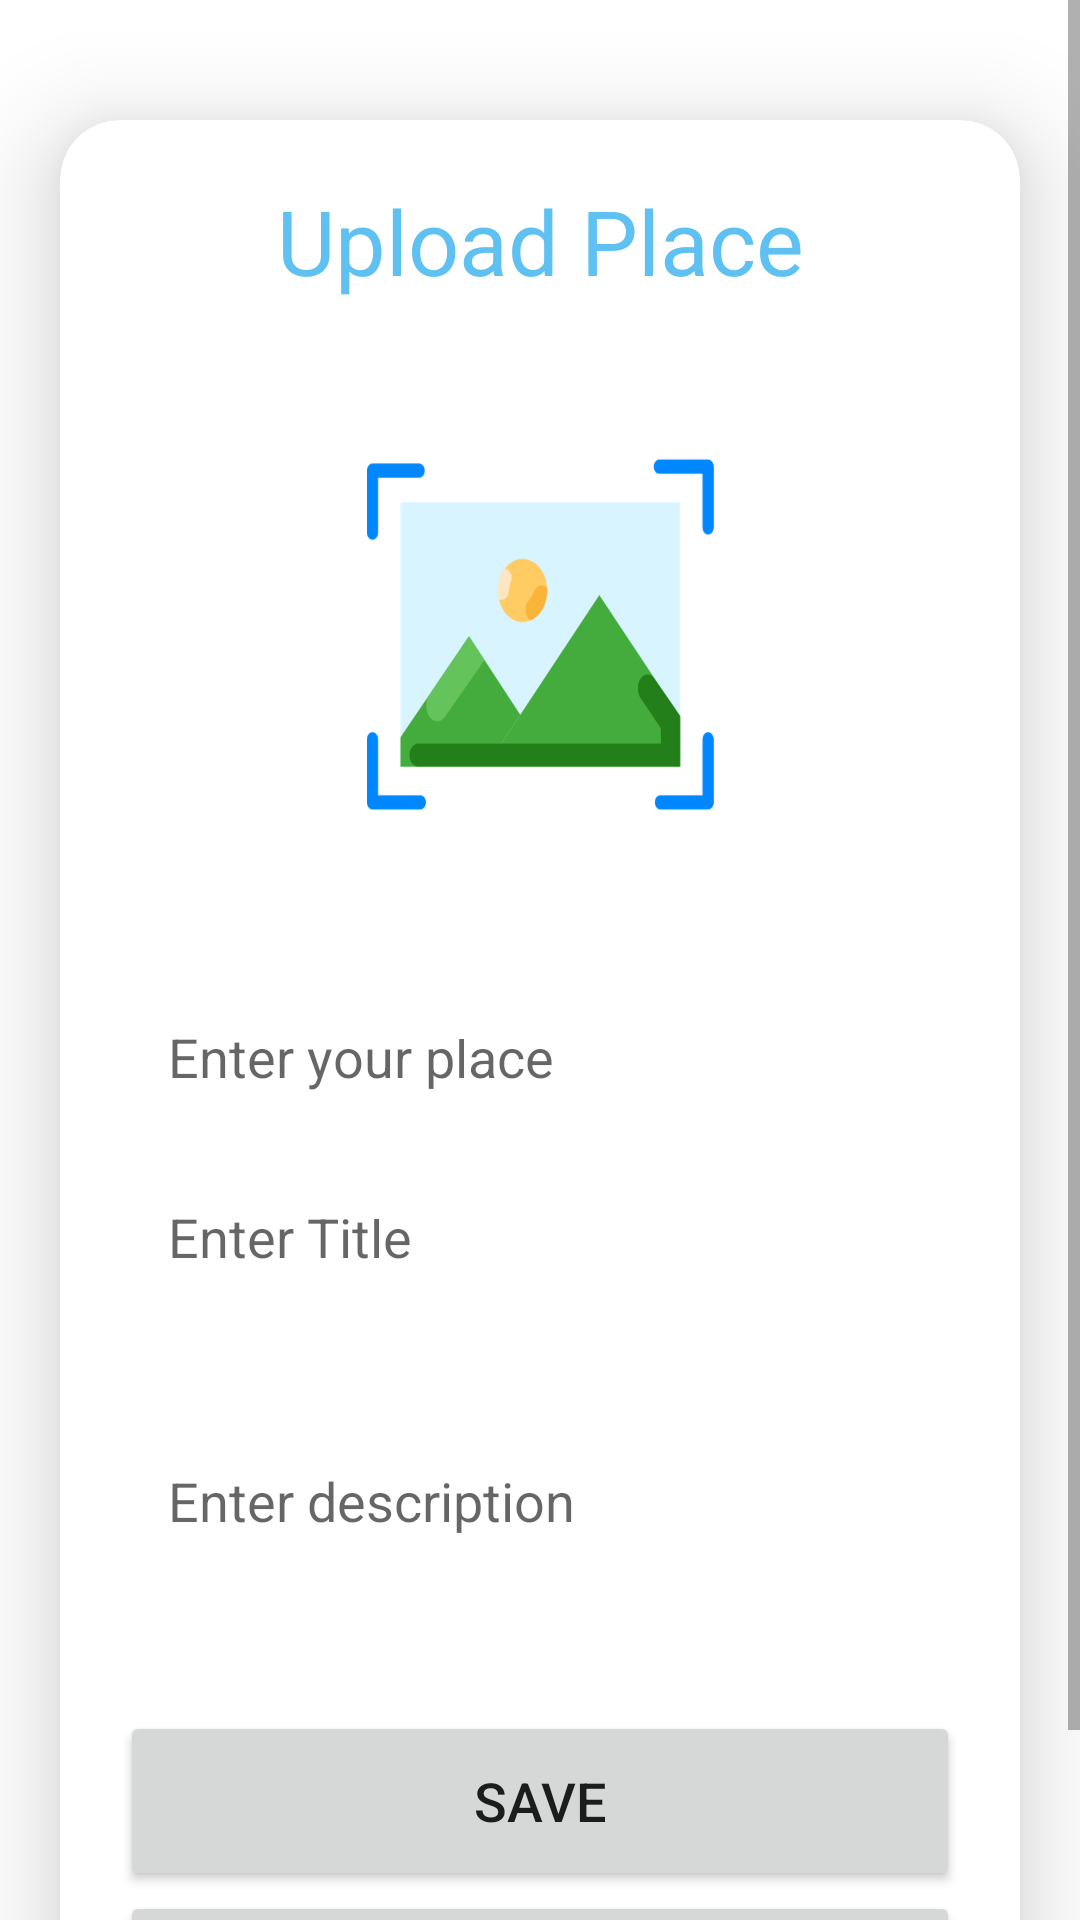

Where icons sit on this 1080px x 1920px app screen, as [x1, y1, x2, y2]:
uploadimg: [367, 459, 714, 810]
